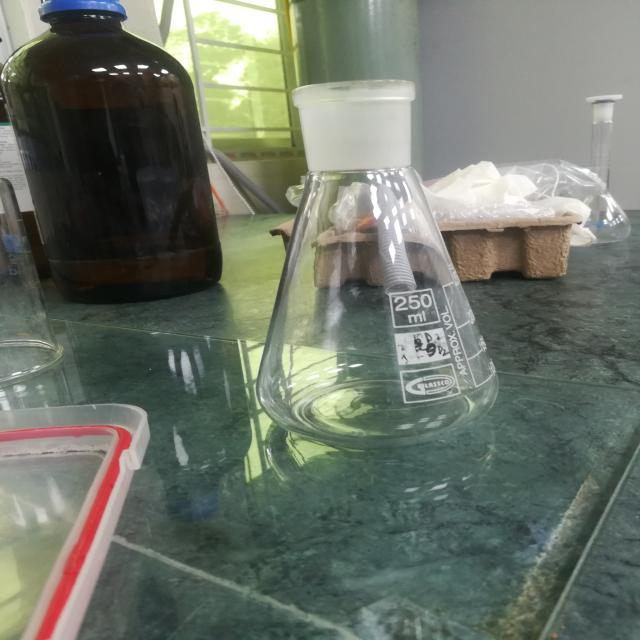Conical_Flask: (243, 50, 528, 461)
